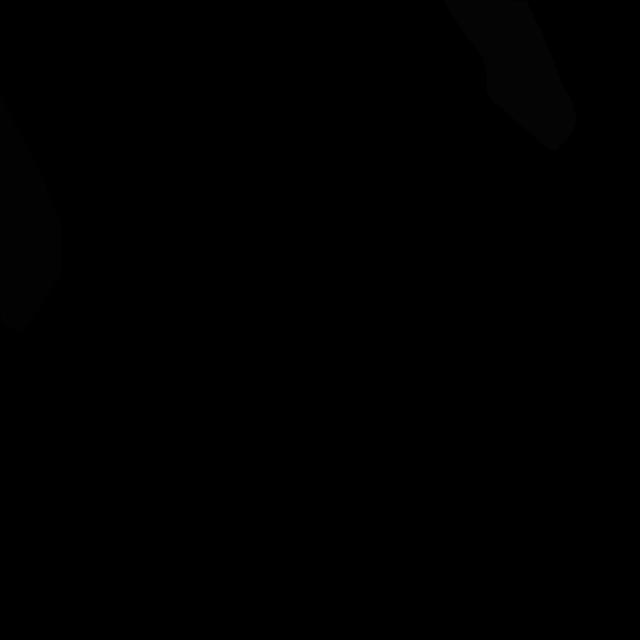cardboard: (0, 95, 62, 333)
soft_plastic: (443, 0, 576, 151)
